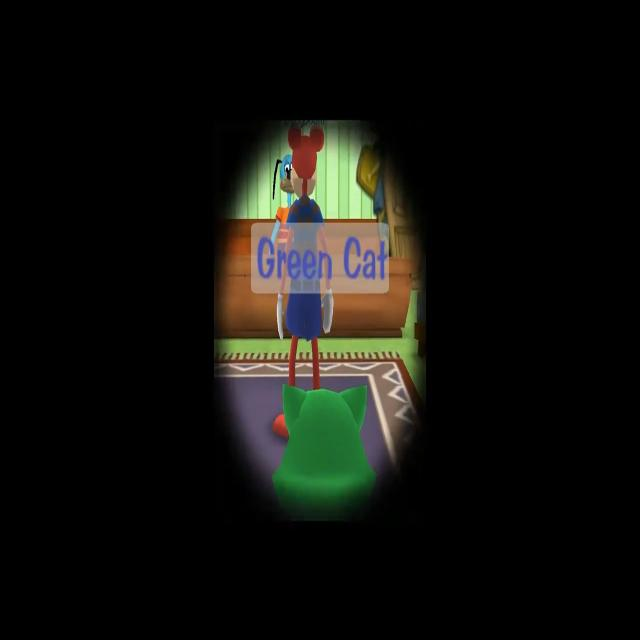npc: (271, 150, 308, 250)
